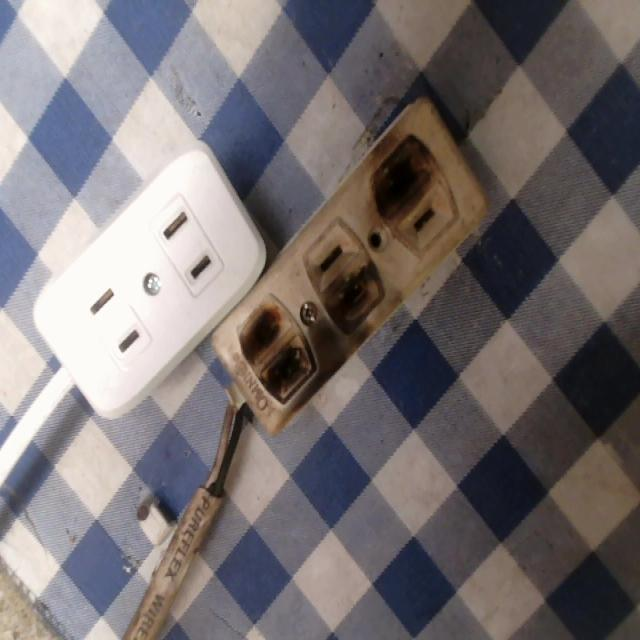-: (238, 292, 316, 413), (370, 132, 428, 221), (323, 258, 385, 334)
